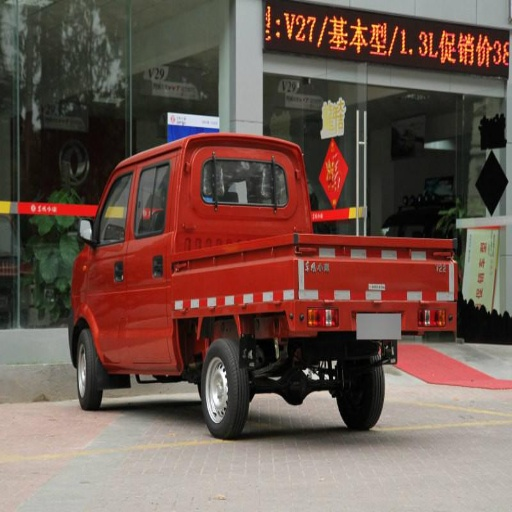trunk: (82, 194, 425, 373)
